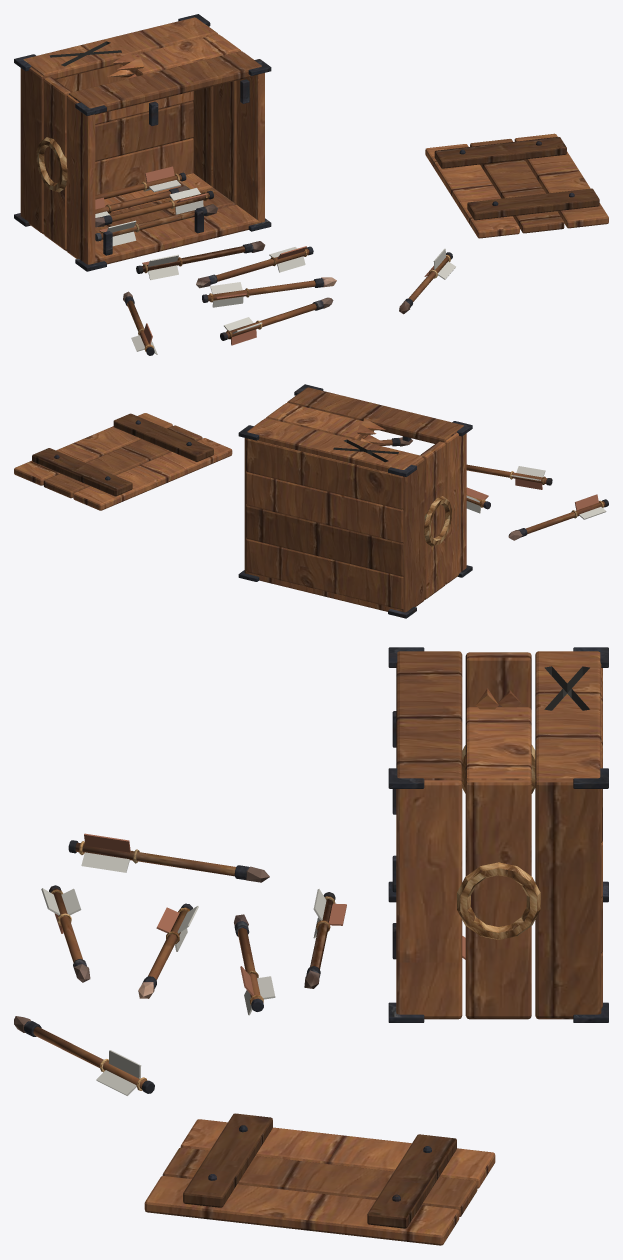
Rendered from rt_arrow_crate_spill.glb.
The picture shows the model from 3 angles, top to bottom: view 1: azimuth 30°, elevation 25°; view 2: azimuth 150°, elevation 25°; view 3: azimuth 270°, elevation 25°; orthographic projection. The views are drawn at different scales.
Visible parts, largest first — view 1: model; view 2: model; view 3: model.
Part boxes in pixels (x1=…): model: x1=14, y1=14, x2=608, y2=355; model: x1=14, y1=384, x2=608, y2=618; model: x1=14, y1=647, x2=608, y2=1245.
Size of the model in its own units: 1.56 by 0.4774 by 0.9988.
Materials: 14 (11 with a texture image).
